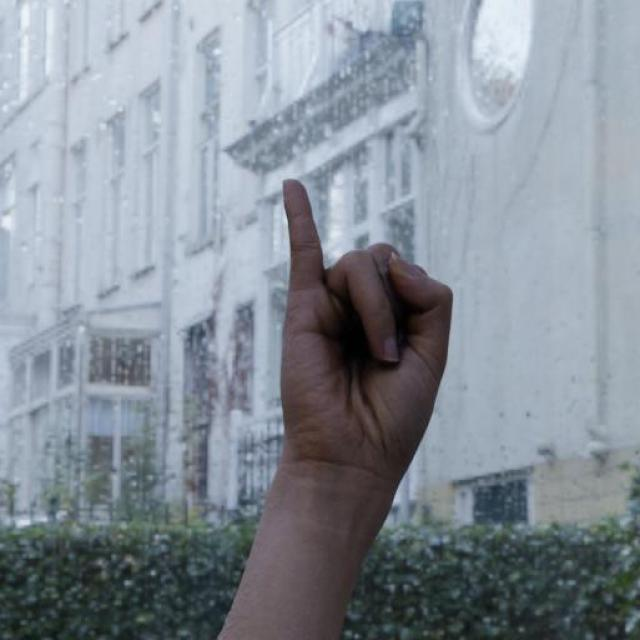I: (276, 175, 458, 460)
